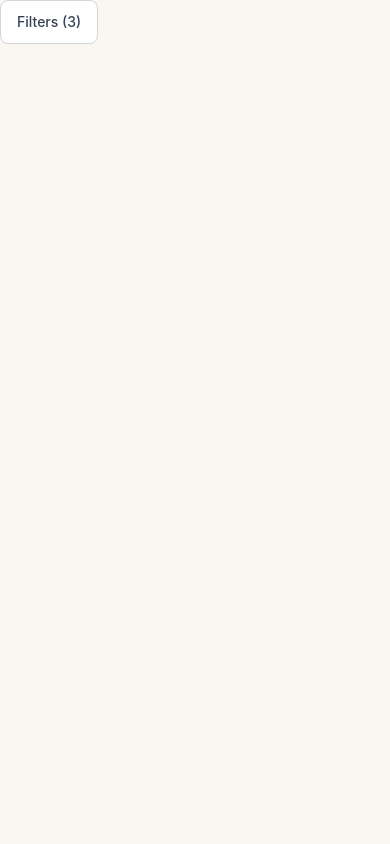
Test case: ResponsiveFilters › opens the mobile sheet, reports active filters, and closes with Escape
The width and height of the screenshot is (390, 844).
Click the button "Filters (3)" at coordinates (49, 22), box [0,0,98,44]
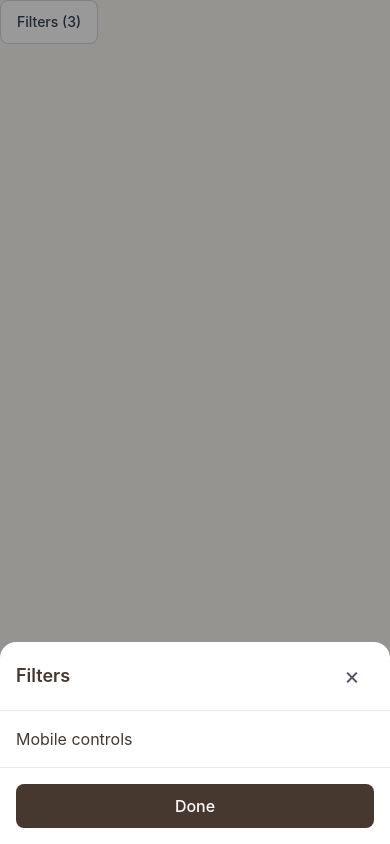
Expected: the dialog "Filters" shows "Mobile controls", [16,729,132,749]
Press Escape in the dialog, box [0,642,389,843]
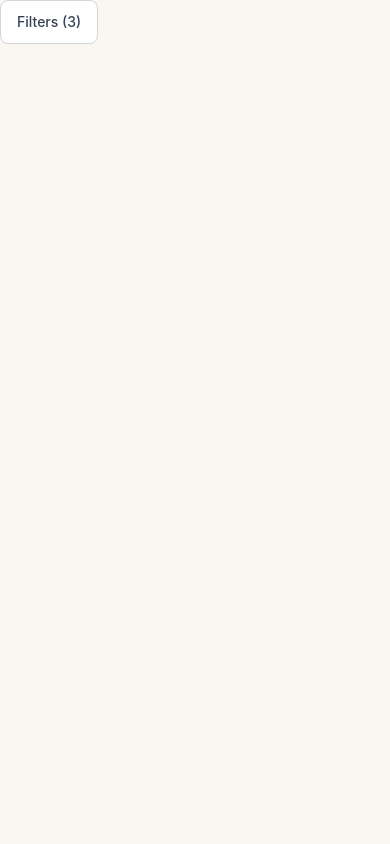
Expected: the dialog is gone
